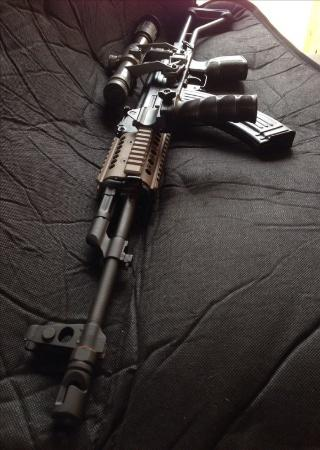weapon: (26, 7, 298, 426)
